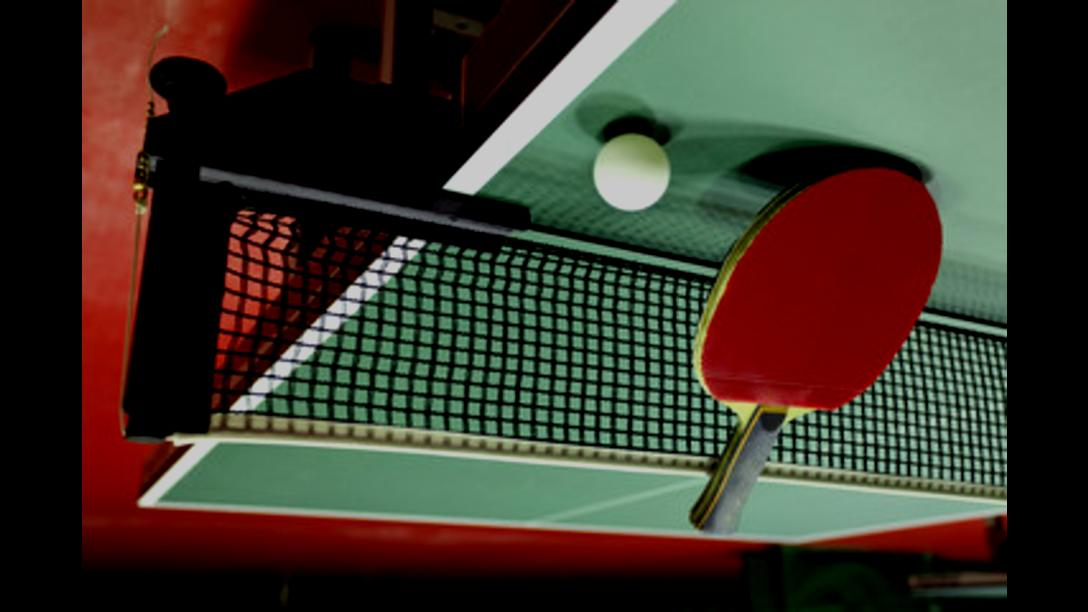Table-Tennis-Ball: (595, 134, 671, 210)
